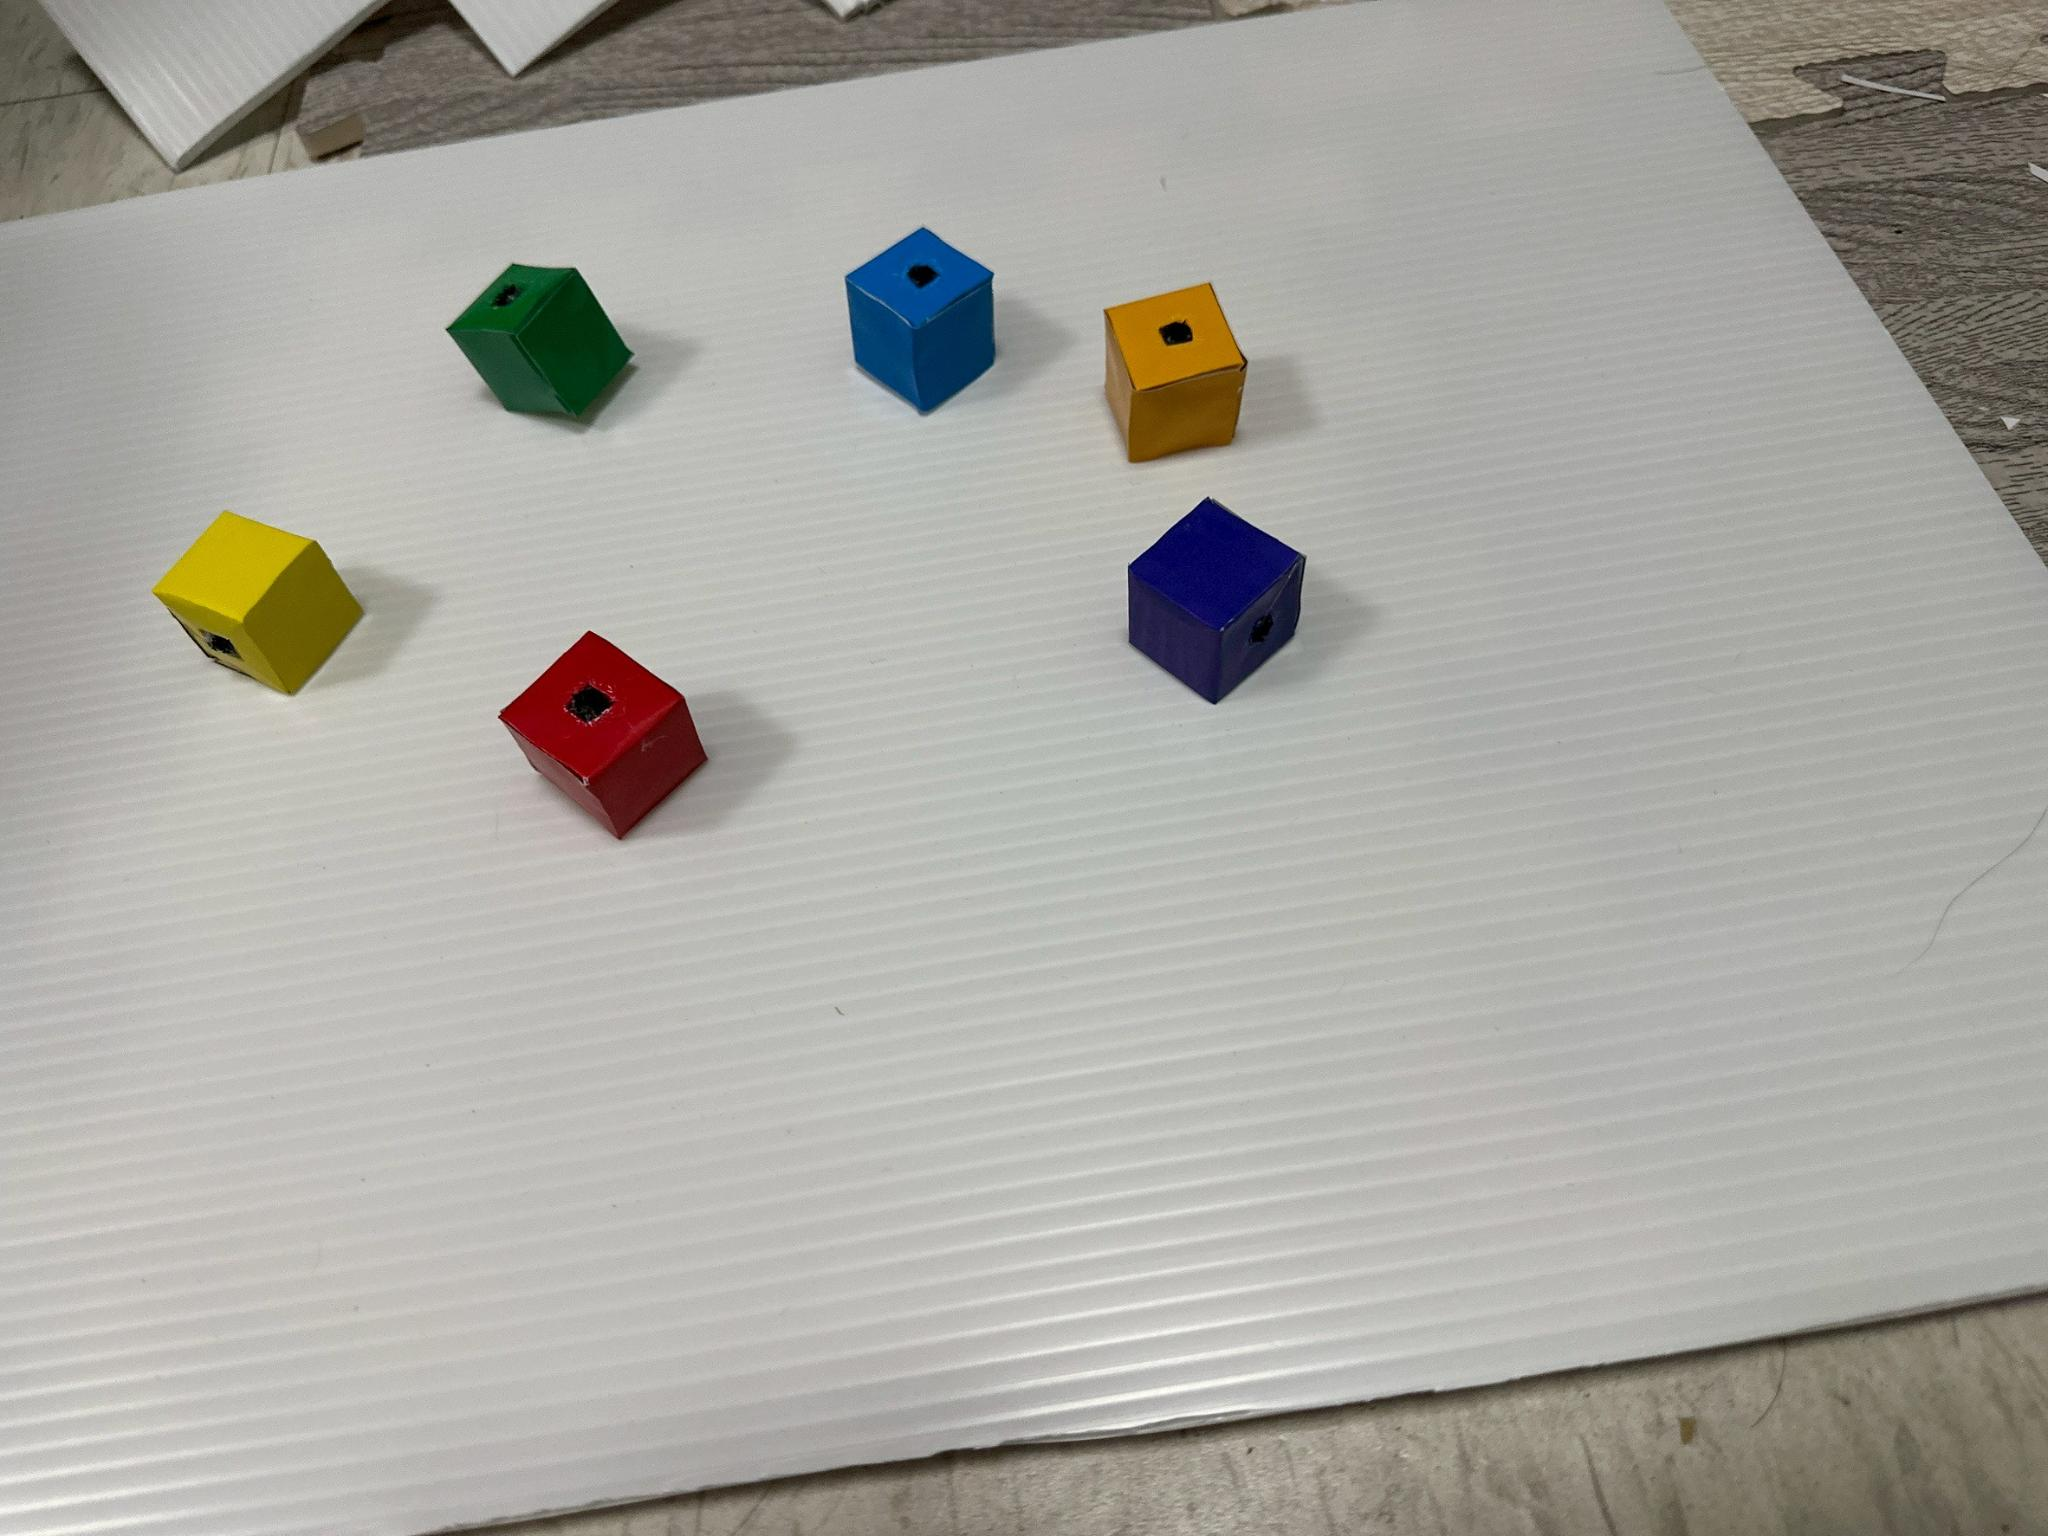cube: (498, 632, 706, 839), (155, 511, 363, 695), (1129, 500, 1305, 702), (847, 227, 995, 413), (448, 265, 631, 415), (1105, 282, 1247, 461)
